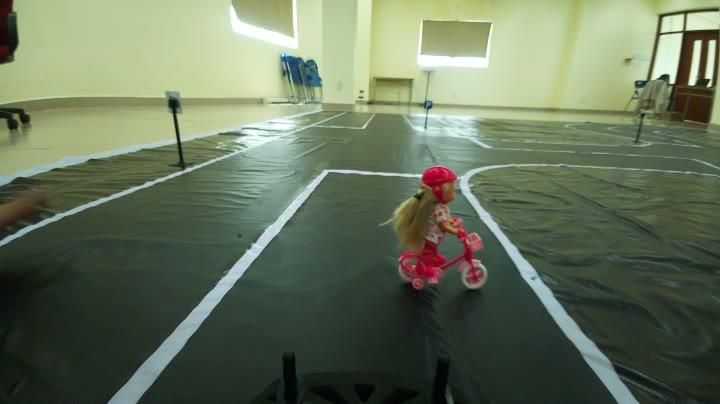pedestrian: (367, 158, 509, 290)
